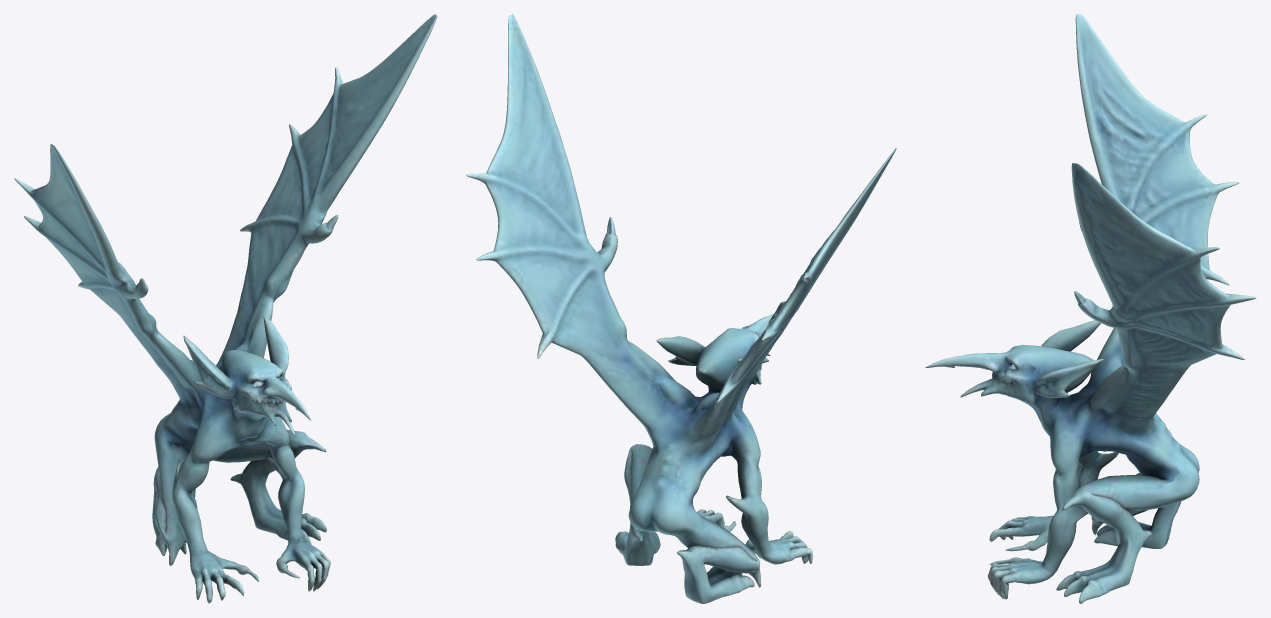
File: MZ4250 - Ice Mephit_1 2025.glb
3 renders of one model, left to right at view 1: azimuth 30°, elevation 25°; view 2: azimuth 150°, elevation 25°; view 3: azimuth 270°, elevation 25°, orthographic.
Parts seen in each view (by area): view 1: Cylinder.001; view 2: Cylinder.001; view 3: Cylinder.001.
Boxes of the visible parts, x1,y1,x2,y2 form: Cylinder.001: (14,14,437,603); Cylinder.001: (466,14,896,603); Cylinder.001: (925,14,1256,603).
Bounding box in the file's own units: 83.5 × 106 × 62.39.
1 material, 1 textured.
